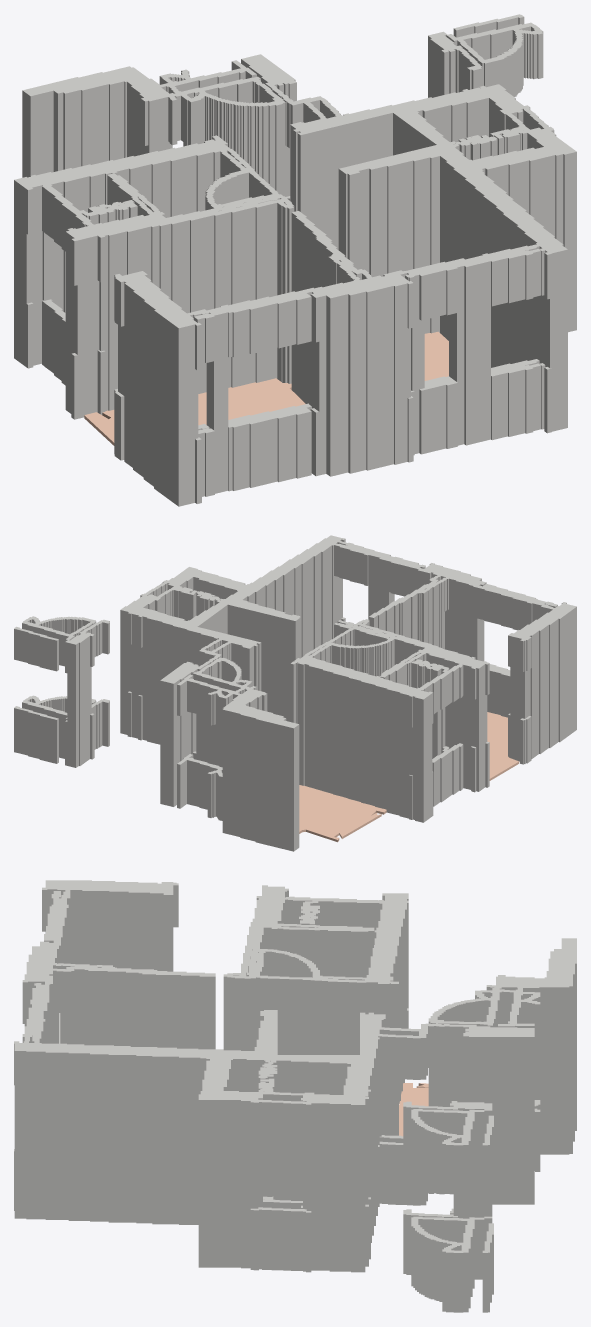
3 views of the same model, one above another, from view 1: azimuth 30°, elevation 25°; view 2: azimuth 150°, elevation 25°; view 3: azimuth 270°, elevation 25° (orthographic). The views are drawn at different scales.
Parts seen in each view (by area): view 1: walls, room:kitchen:0; view 2: walls, room:kitchen:0; view 3: walls, room:kitchen:0.
Part boxes in pixels (x1,y1,x2,y2): walls: [14, 14, 576, 506]; room:kitchen:0: [84, 331, 448, 445]; walls: [14, 535, 576, 851]; room:kitchen:0: [299, 712, 519, 842]; walls: [14, 880, 576, 1312]; room:kitchen:0: [399, 1083, 428, 1136].
Size of the model in its own units: 9.5 by 2.8 by 8.53.
